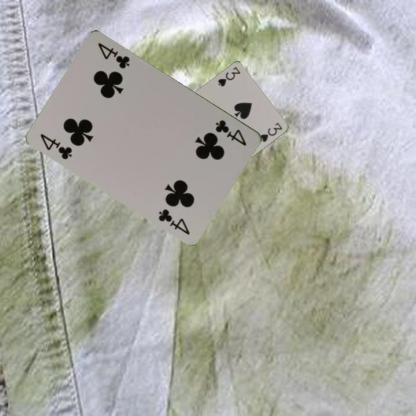3s: (215, 63, 241, 88)
4c: (212, 117, 248, 147), (38, 131, 74, 161)
